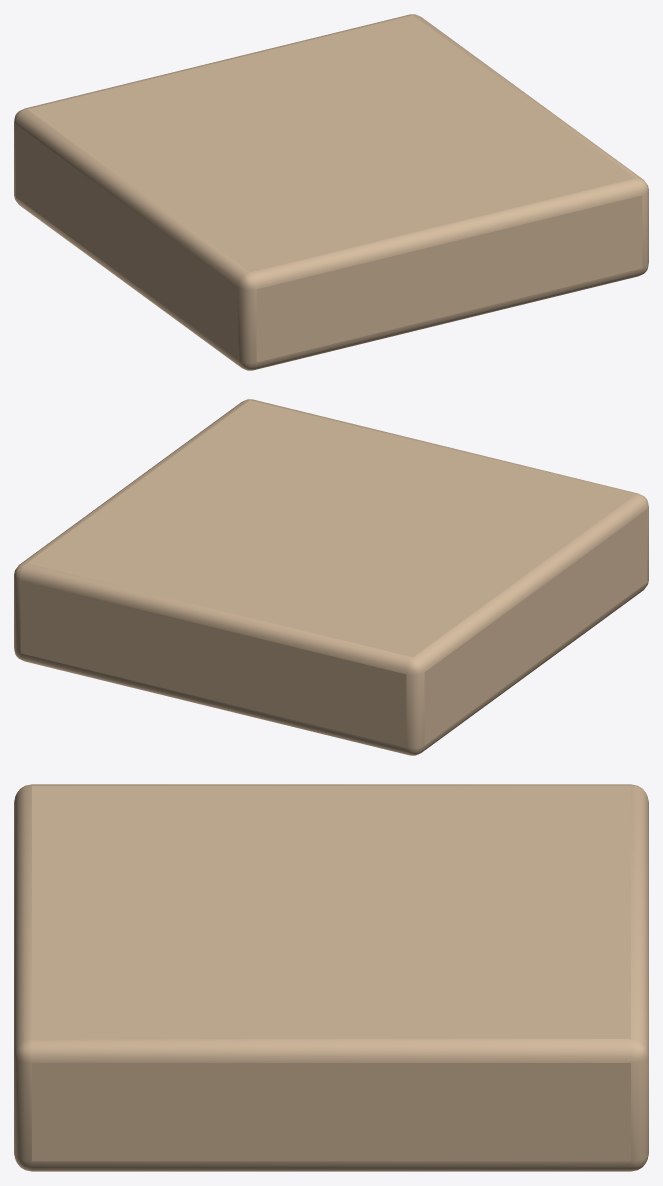
File: tile.glb
3 renders of one model, top to bottom at view 1: azimuth 30°, elevation 25°; view 2: azimuth 150°, elevation 25°; view 3: azimuth 270°, elevation 25°, orthographic. The views are drawn at different scales.
Visible parts, largest first — view 1: Gridlock_Tile_Mesh; view 2: Gridlock_Tile_Mesh; view 3: Gridlock_Tile_Mesh.
Part boxes in pixels (x1,y1,x2,y2): Gridlock_Tile_Mesh: (14,14,648,370); Gridlock_Tile_Mesh: (14,399,648,755); Gridlock_Tile_Mesh: (14,784,648,1171).
Size of the model in its own units: 0.88 by 0.2 by 0.88.
